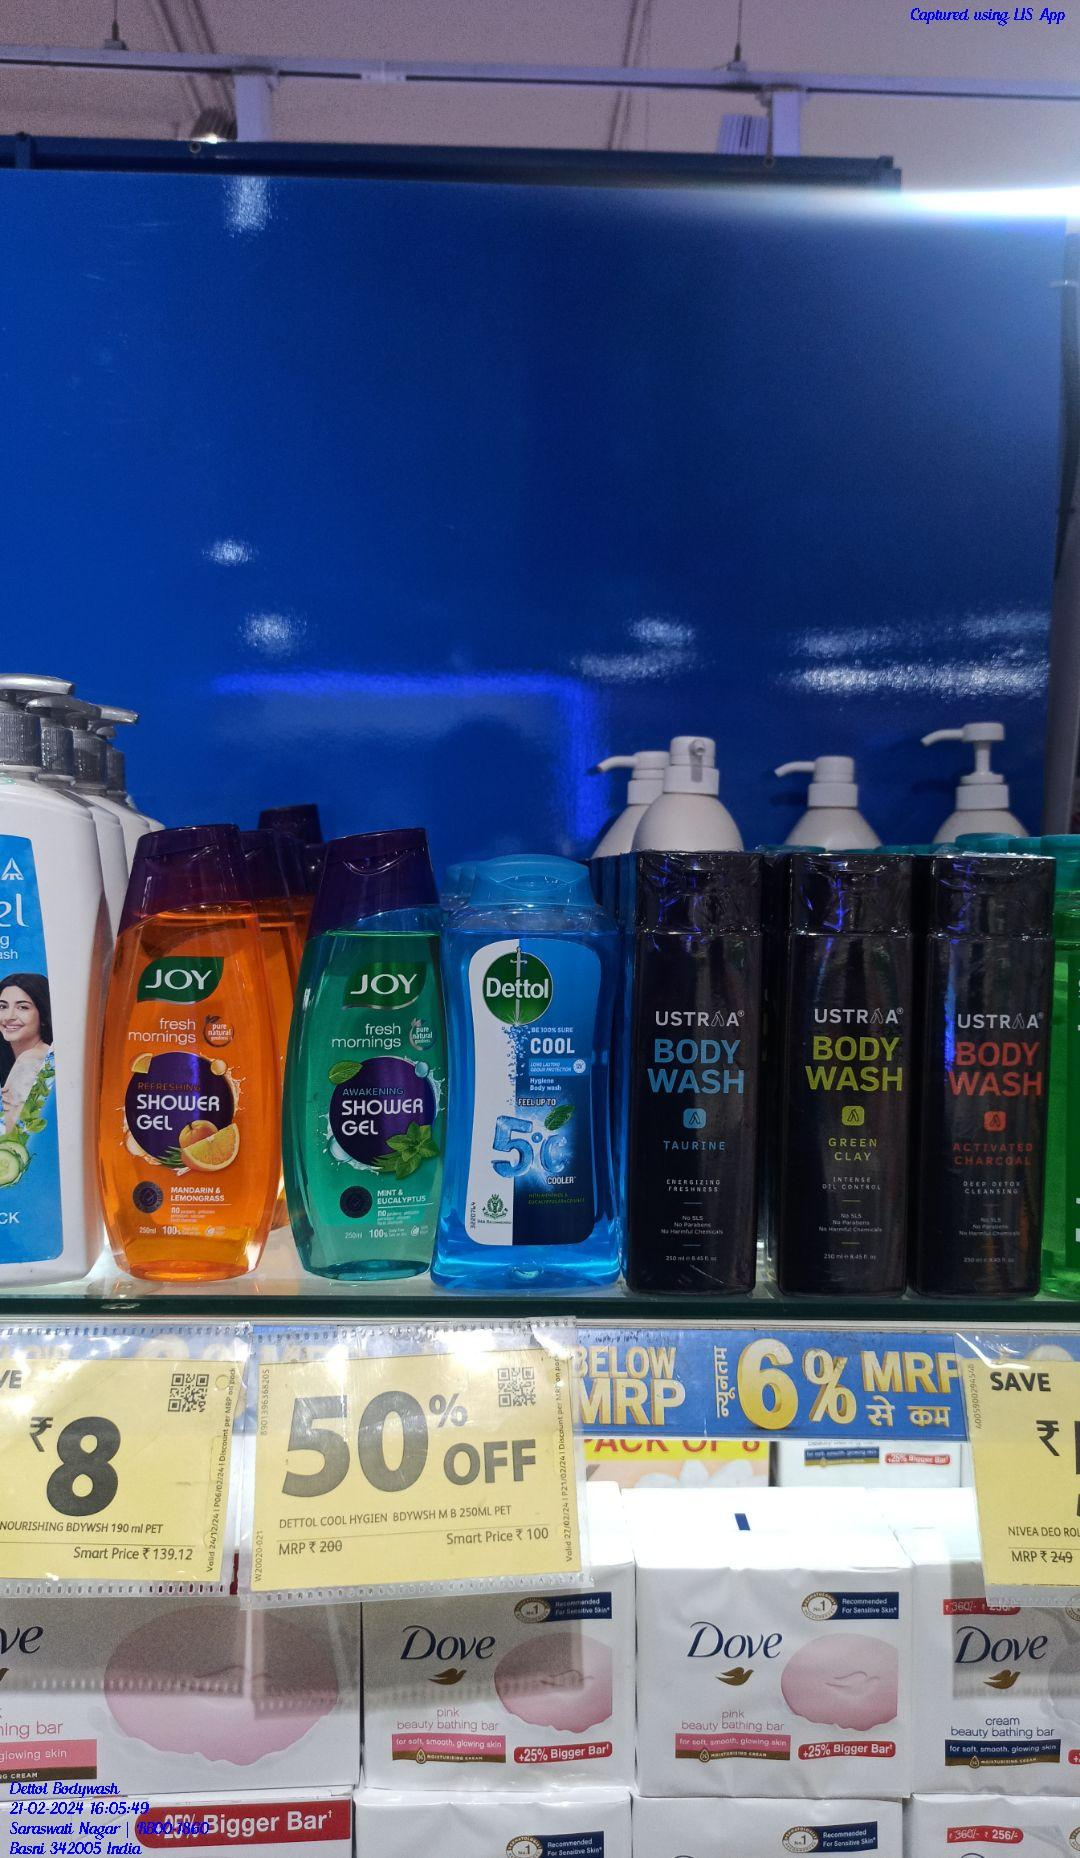Dettol_Bodywash_Cool: (436, 847, 624, 1290)
Joy_Shower_Gel_Mandarin_and_Lemongrass_250ML: (94, 816, 280, 1286)
Joy_Shower_Gel_Mint_and_Eucalyptus_250ML: (284, 819, 441, 1285)
